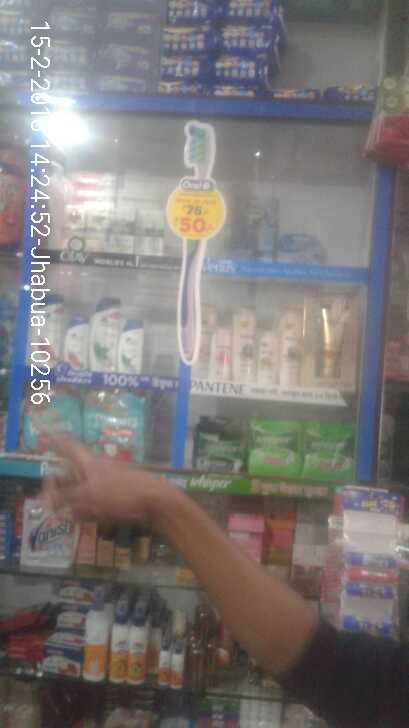venus: (236, 186, 279, 263), (279, 234, 326, 263)
